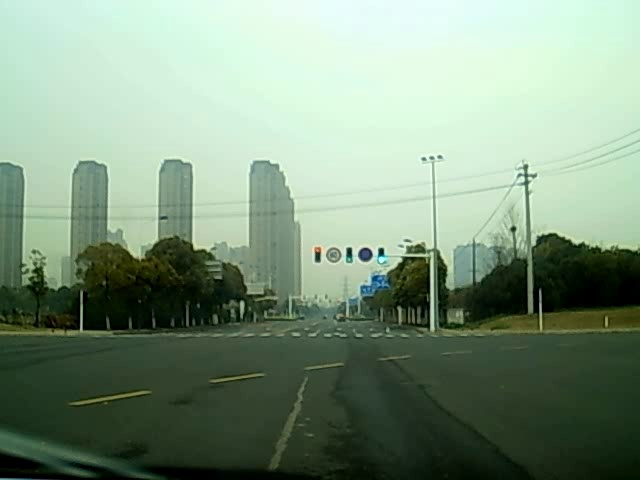Traffic_Light_go: (377, 248, 386, 268), (345, 247, 352, 264)
Traffic_Light_stop: (313, 247, 320, 263)
